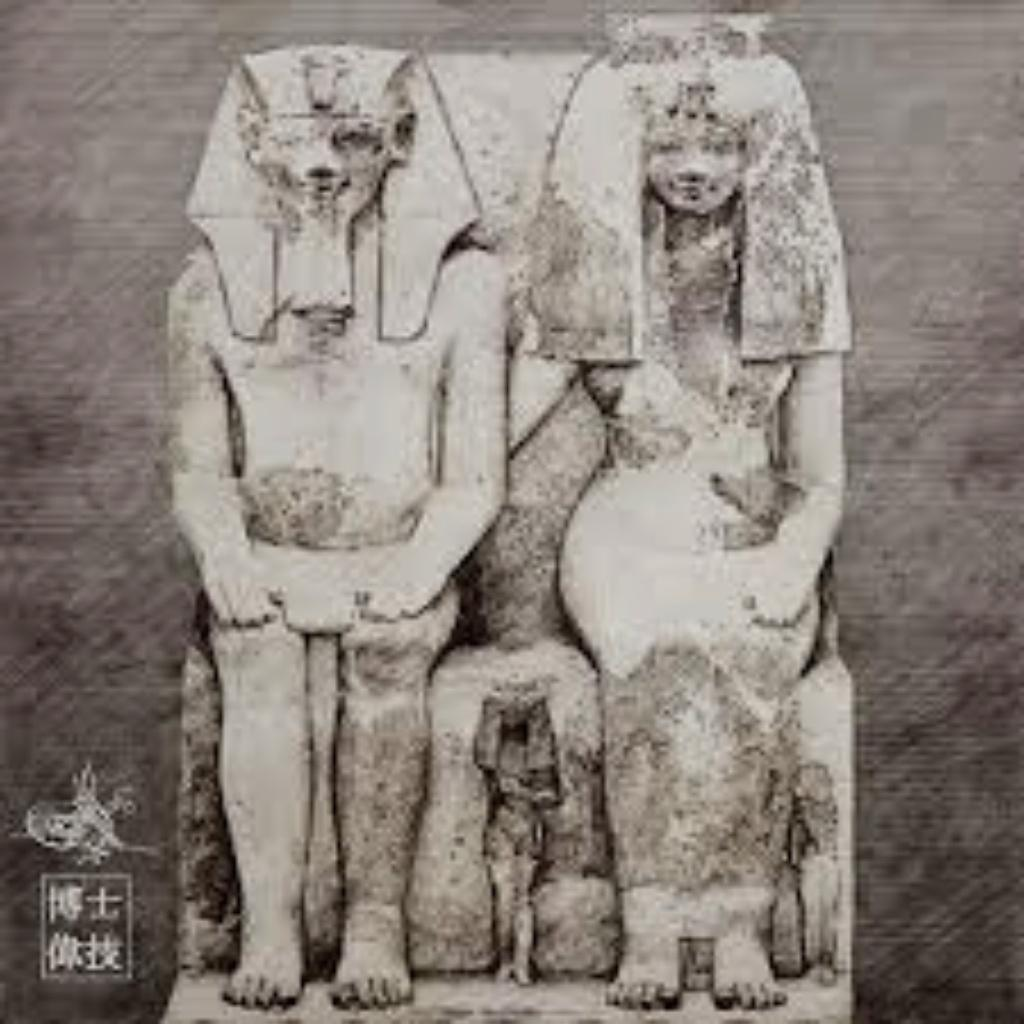Amenhotep III and Tiye: (160, 36, 854, 1010)
